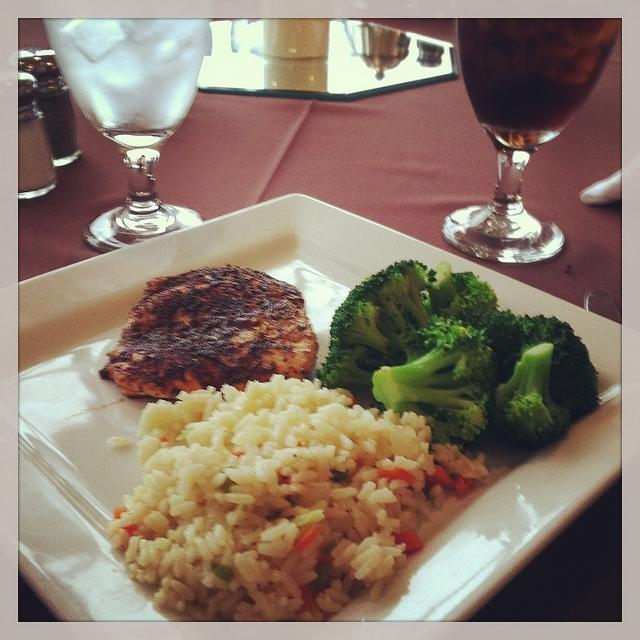broccoli: (372, 314, 496, 442), (320, 260, 439, 390), (516, 314, 602, 421), (490, 342, 571, 452), (460, 308, 524, 384), (428, 261, 501, 320)
